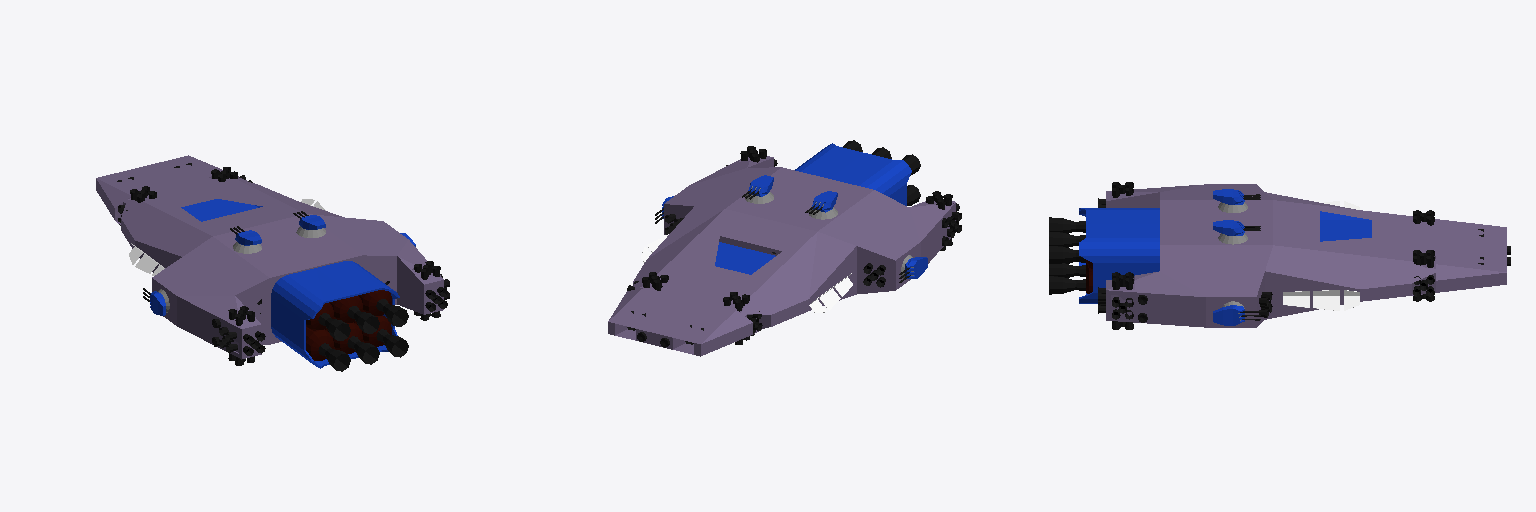
Rendered from Cruiser.obj.
The picture shows the model from 3 angles: view 1: azimuth 30°, elevation 25°; view 2: azimuth 150°, elevation 25°; view 3: azimuth 270°, elevation 25°; orthographic projection.
Visible parts, largest first — view 1: Cube, Plane.004, Fuel_Tank.003; view 2: Cube, Plane.004, Plane; view 3: Cube, Plane.004, Plane.002, Cylinder.019, Thruster.005.
Boxes of the visible parts, x1,y1,x2,y2 form: Cube: [96, 155, 443, 359]; Plane.004: [271, 261, 399, 368]; Fuel_Tank.003: [306, 327, 333, 360]; Cube: [608, 156, 955, 356]; Plane.004: [795, 143, 911, 205]; Plane: [809, 273, 852, 312]; Cube: [1106, 184, 1506, 327]; Plane.004: [1079, 208, 1159, 303]; Plane.002: [1283, 290, 1359, 310]; Cylinder.019: [1213, 305, 1244, 325]; Thruster.005: [1049, 276, 1085, 294].
Bounding box in the file's own units: 87.4 × 31.4 × 138.